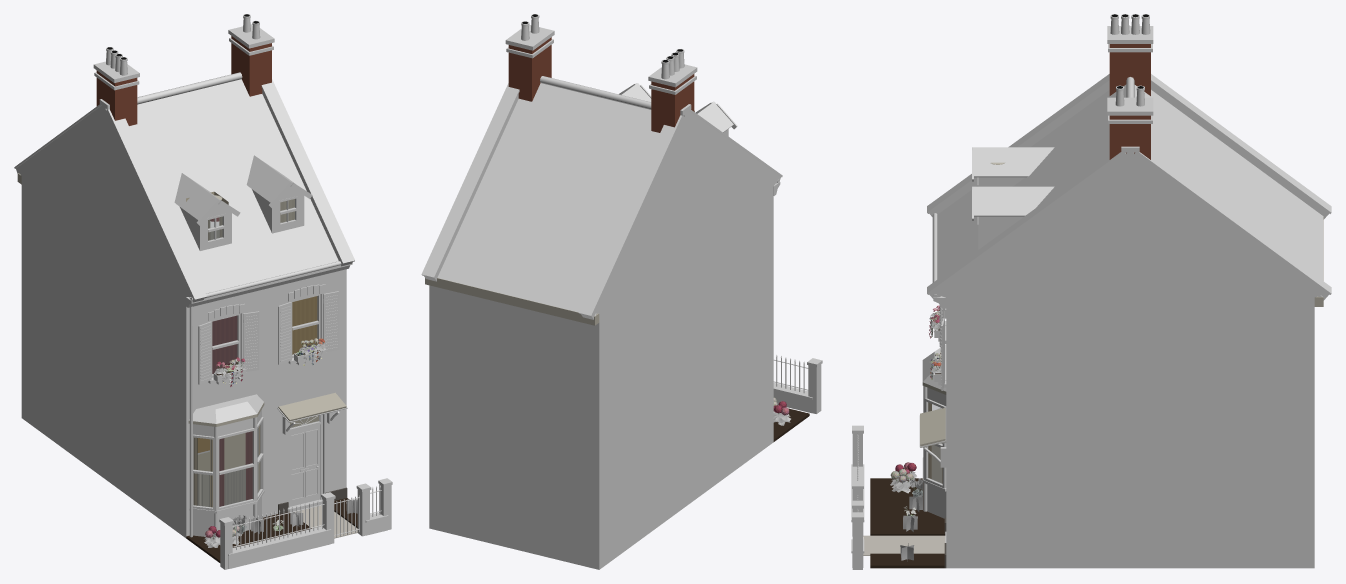
Rendered from Opposite_Opposite2_3.glb.
3 renders of one model, left to right at view 1: azimuth 30°, elevation 25°; view 2: azimuth 150°, elevation 25°; view 3: azimuth 270°, elevation 25°, orthographic. The views are drawn at different scales.
Parts seen in each view (by area): view 1: Opposite_Opposite2_3; view 2: Opposite_Opposite2_3; view 3: Opposite_Opposite2_3.
Part boxes in pixels (<box>): Opposite_Opposite2_3: <box>14,14,392,569</box>; Opposite_Opposite2_3: <box>421,14,822,569</box>; Opposite_Opposite2_3: <box>851,14,1331,569</box>.
Size of what is drawn, in the model's own units: 4.72 by 11.36 by 10.43.
